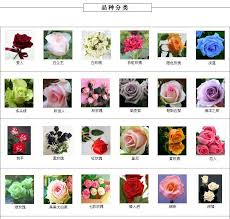lale: (156, 172, 191, 209), (195, 77, 228, 112), (194, 30, 226, 62), (77, 81, 115, 107), (118, 175, 150, 204), (81, 32, 114, 60), (41, 127, 72, 156), (122, 34, 152, 63), (43, 79, 72, 108), (4, 34, 35, 61), (159, 78, 189, 105), (79, 127, 109, 154), (4, 78, 35, 104), (119, 78, 147, 106), (119, 128, 148, 154), (157, 34, 188, 58), (46, 31, 72, 58), (44, 180, 72, 205), (10, 130, 29, 155), (7, 180, 25, 201), (196, 127, 216, 144), (167, 140, 186, 154), (196, 144, 217, 156), (20, 177, 36, 192), (168, 130, 187, 142), (210, 143, 226, 155), (203, 192, 217, 204), (81, 189, 93, 200), (207, 181, 218, 190), (197, 176, 207, 185), (90, 185, 99, 195), (81, 178, 90, 187), (97, 187, 106, 195)
